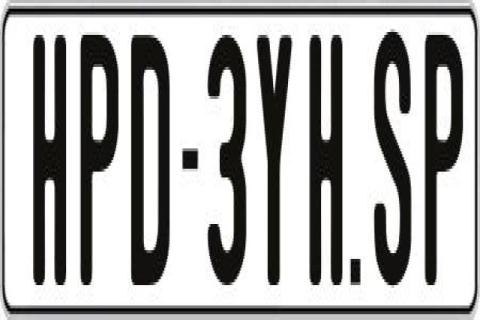0: (207, 35, 247, 299)
D: (130, 35, 172, 294)
H: (308, 35, 346, 299), (33, 29, 72, 282)
P: (80, 29, 122, 294), (422, 35, 460, 297)
S: (371, 24, 412, 294)
Y: (255, 29, 296, 294)
